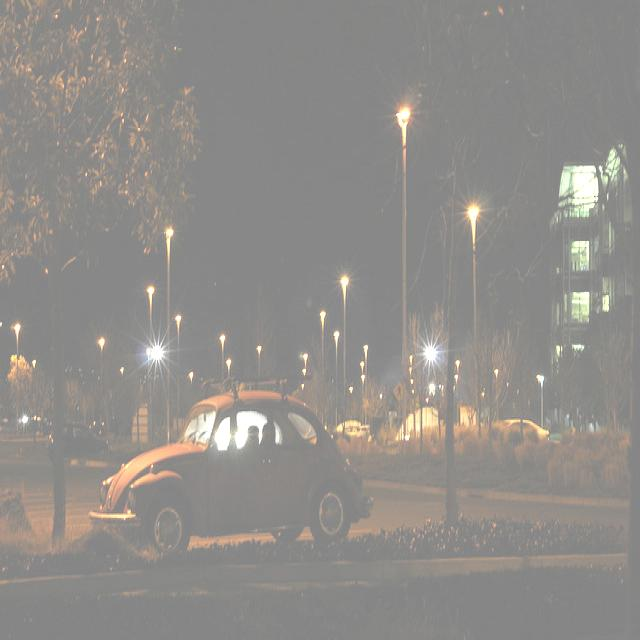Car: (91, 388, 374, 560)
